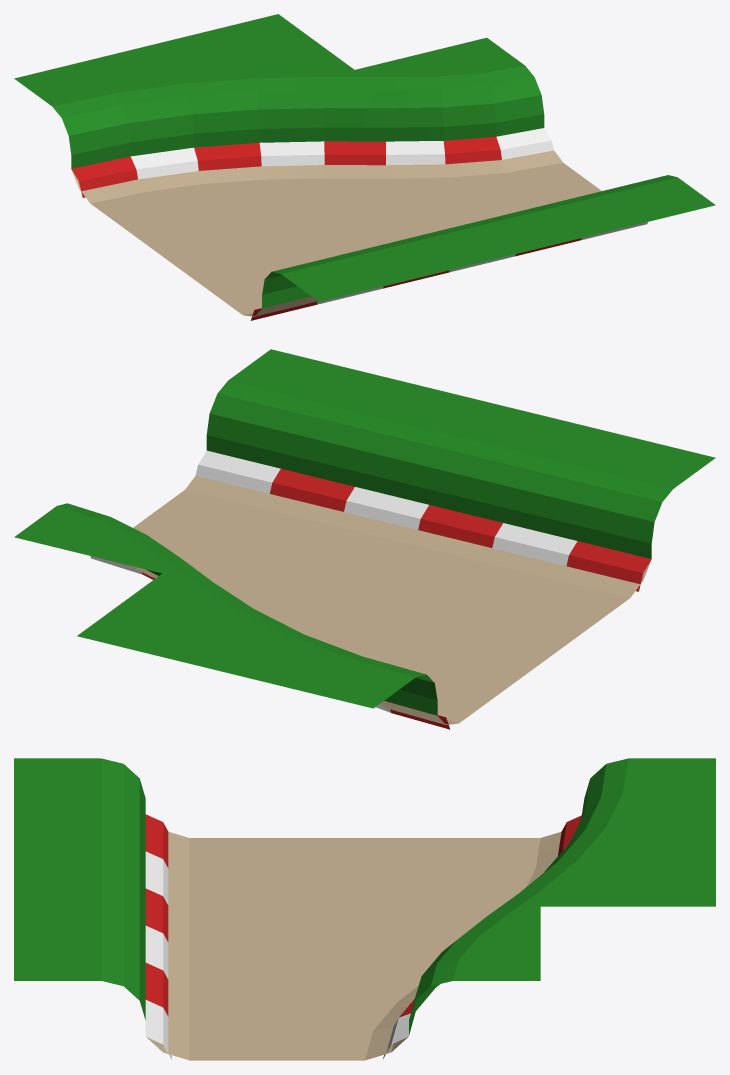
File: Track_Striped_Straight_Widening.obj
3 renders of one model, top to bottom at view 1: azimuth 30°, elevation 25°; view 2: azimuth 150°, elevation 25°; view 3: azimuth 270°, elevation 25°, orthographic. The views are drawn at different scales.
Parts seen in each view (by area): view 1: Grass, Dirt, Raceline_Color_2, Raceline_Color_1; view 2: Grass, Dirt, Raceline_Color_2, Raceline_Color_1; view 3: Dirt, Grass, Raceline_Color_2, Raceline_Color_1.
Boxes of the visible parts, x1,y1,x2,y2 form: Grass: [14, 14, 715, 308]; Dirt: [72, 150, 601, 316]; Raceline_Color_2: [71, 136, 581, 320]; Raceline_Color_1: [130, 128, 647, 304]; Grass: [14, 349, 715, 715]; Dirt: [107, 476, 651, 724]; Raceline_Color_2: [142, 468, 651, 729]; Raceline_Color_1: [90, 450, 577, 712]; Dirt: [146, 831, 561, 1060]; Grass: [14, 758, 715, 1035]; Raceline_Color_2: [145, 814, 581, 1017]; Raceline_Color_1: [145, 851, 439, 1059].
Bounding box in the file's own units: 3 × 0.5 × 4.
